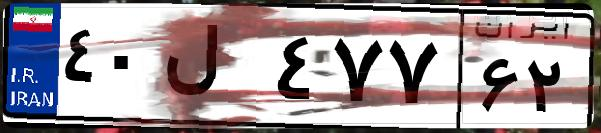0: (110, 28, 158, 98)
2: (525, 38, 570, 115)
4: (270, 28, 330, 110), (57, 26, 110, 100)
6: (475, 38, 525, 113)
7: (385, 28, 445, 110), (330, 28, 385, 110)
ل: (158, 20, 270, 120)
